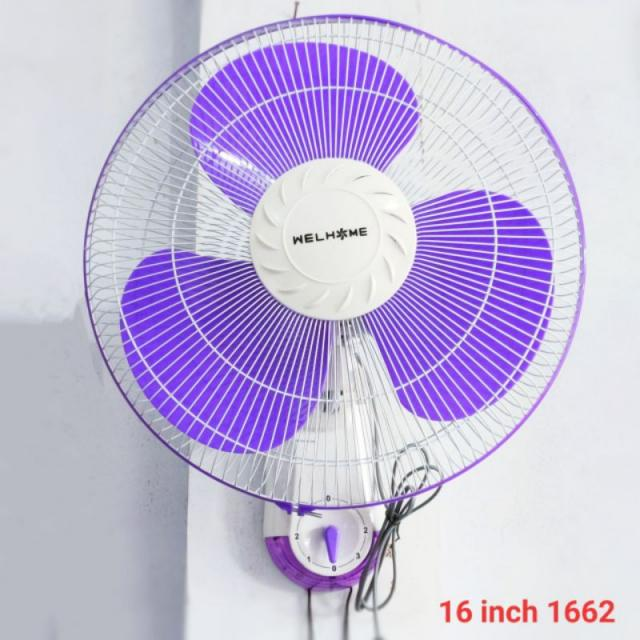fan: (76, 4, 622, 611)
